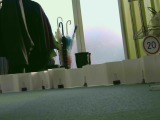speed_20: (141, 34, 160, 54)
